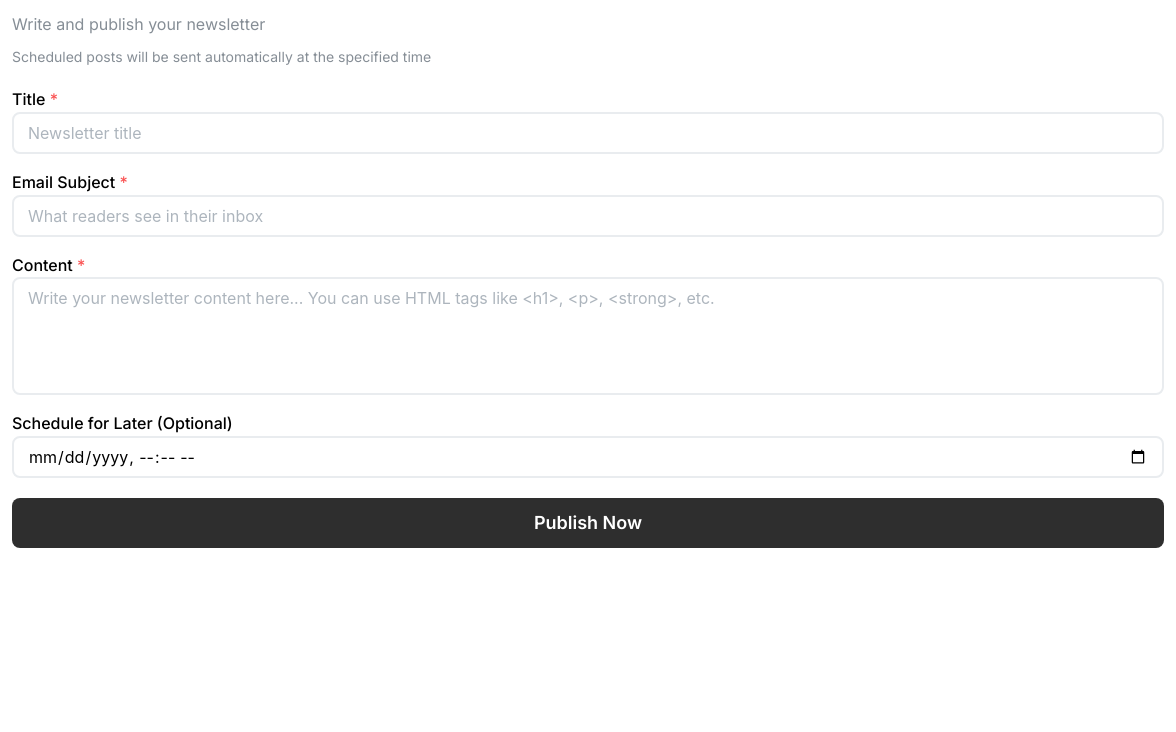
Test: AuthorPost › changes button text when scheduling is enabled
Type "2025-12-25T10:00" into the field labelled "Schedule for Later (Optional)" at x=588, y=457, box [12, 436, 1164, 478]
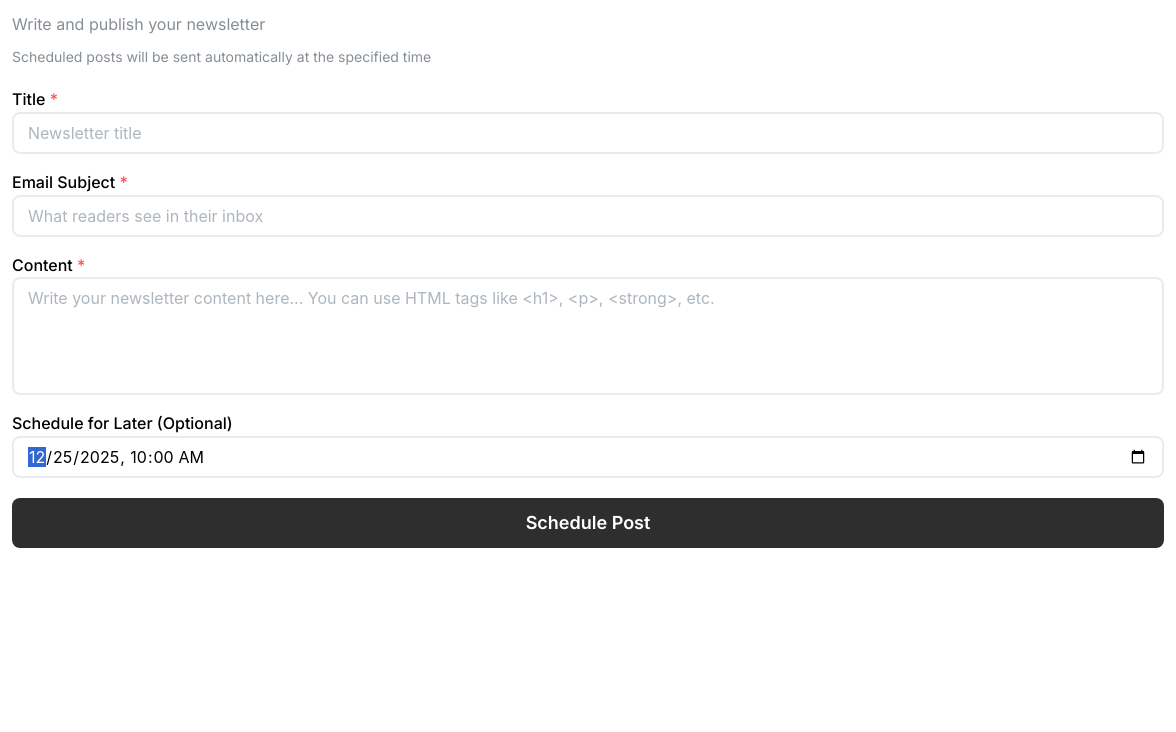
Check: the button "Schedule Post" is shown, box [12, 498, 1164, 548]
